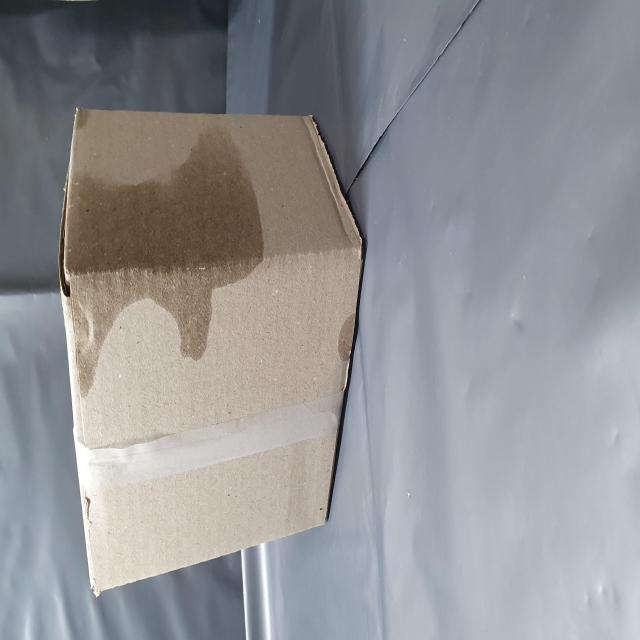wet: (143, 103, 276, 479)
